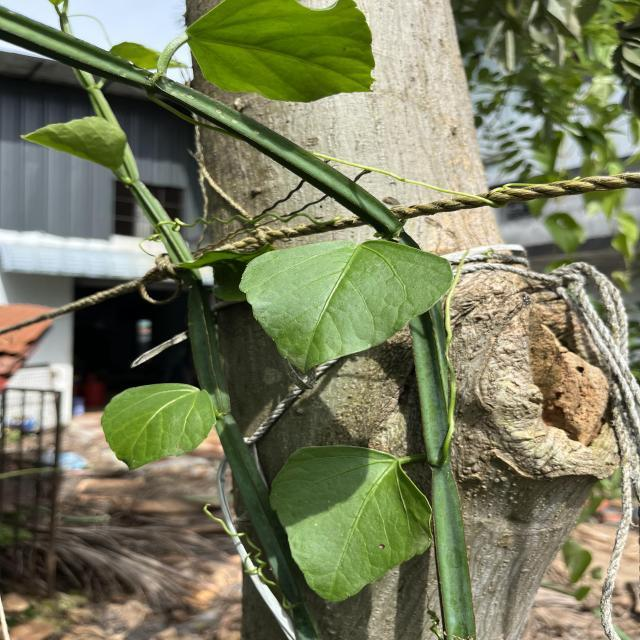Cissus quadrangularis: (234, 234, 458, 376), (264, 444, 442, 606)
